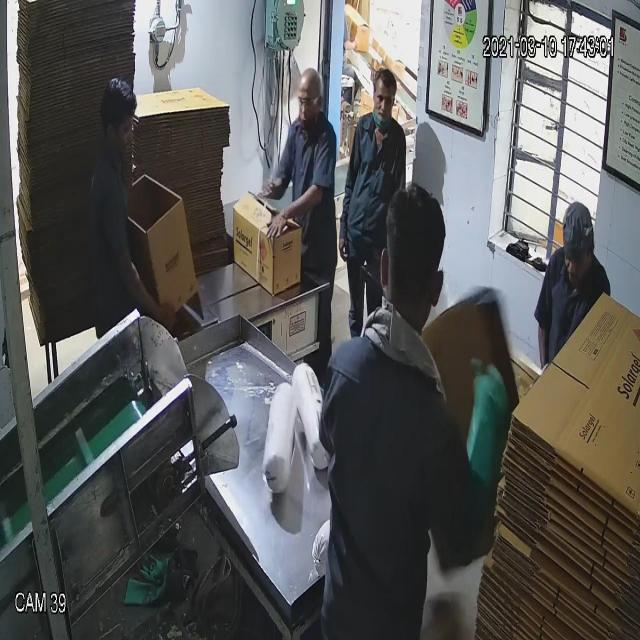No_Gloves: (66, 63, 488, 424)
